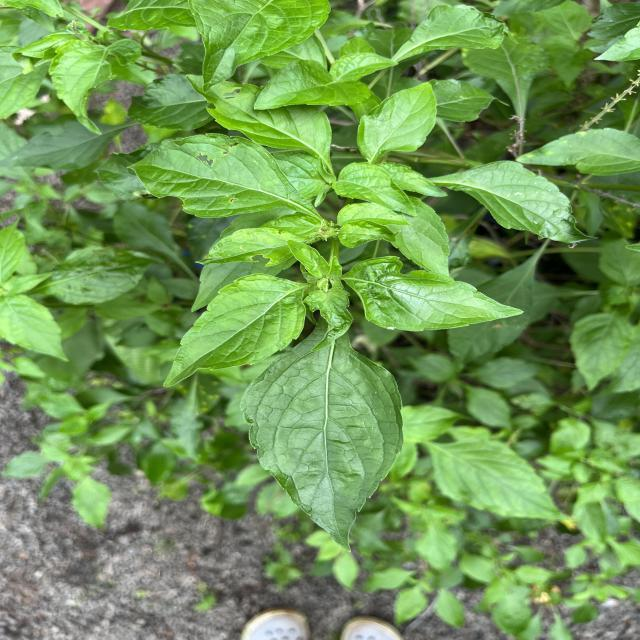Ocimum gratissimum: (236, 321, 408, 556), (160, 268, 310, 392), (123, 128, 314, 220), (432, 158, 605, 248), (346, 252, 526, 336), (183, 66, 335, 163), (182, 0, 333, 95), (47, 35, 146, 138), (354, 78, 441, 162), (384, 1, 508, 57)
